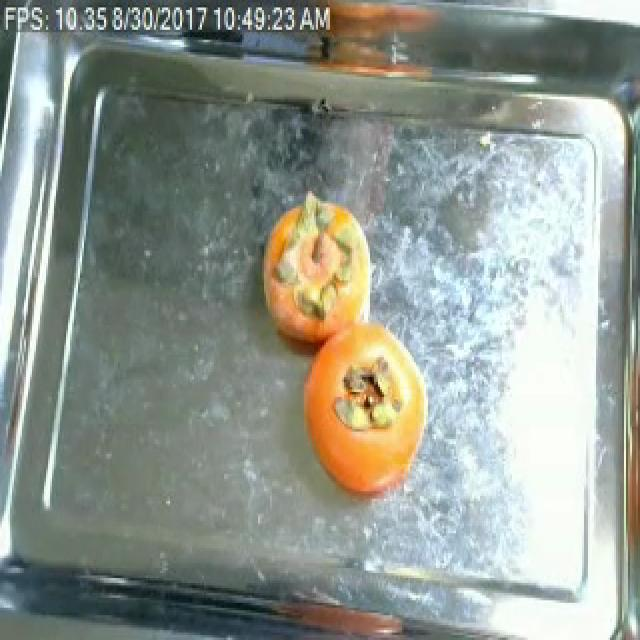Fruit: (248, 181, 386, 352), (308, 0, 452, 89)
